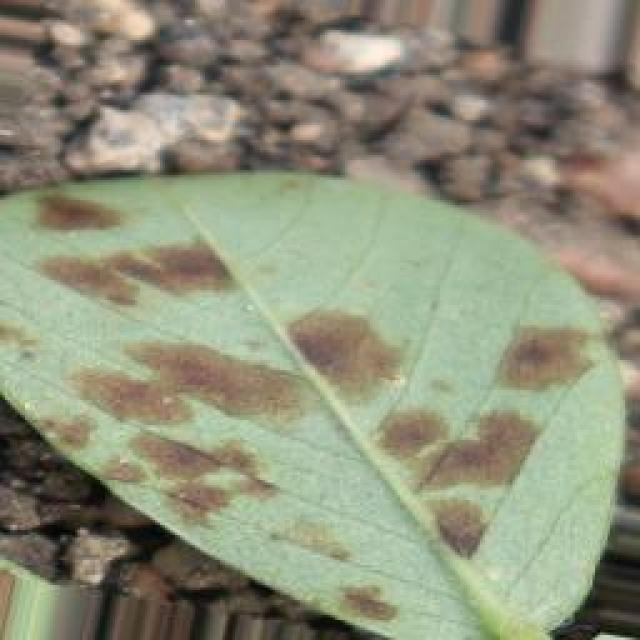Whitefly: (5, 150, 602, 631)
